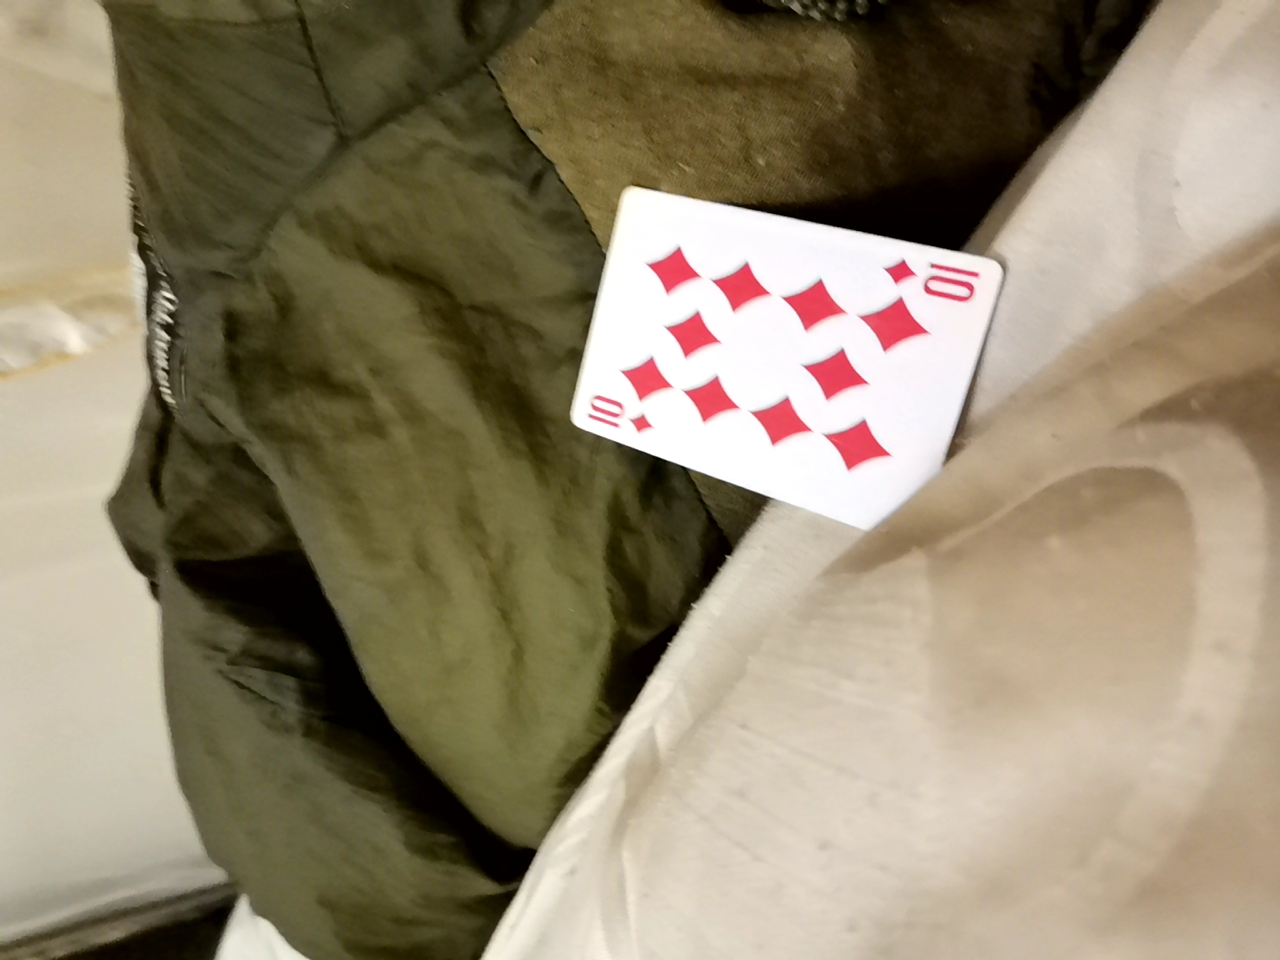fk 10: (575, 193, 996, 519)
